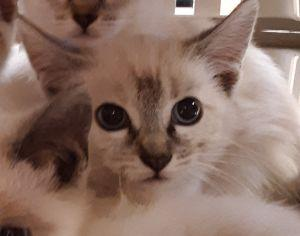siamese: (28, 1, 265, 235)
